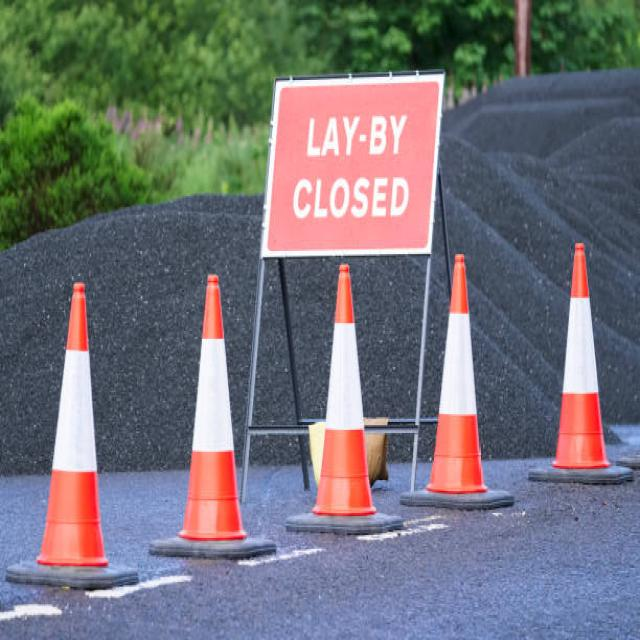Traffic Cone: (0, 254, 144, 602), (146, 255, 282, 588), (287, 258, 404, 545), (523, 232, 640, 512), (406, 239, 522, 519)
